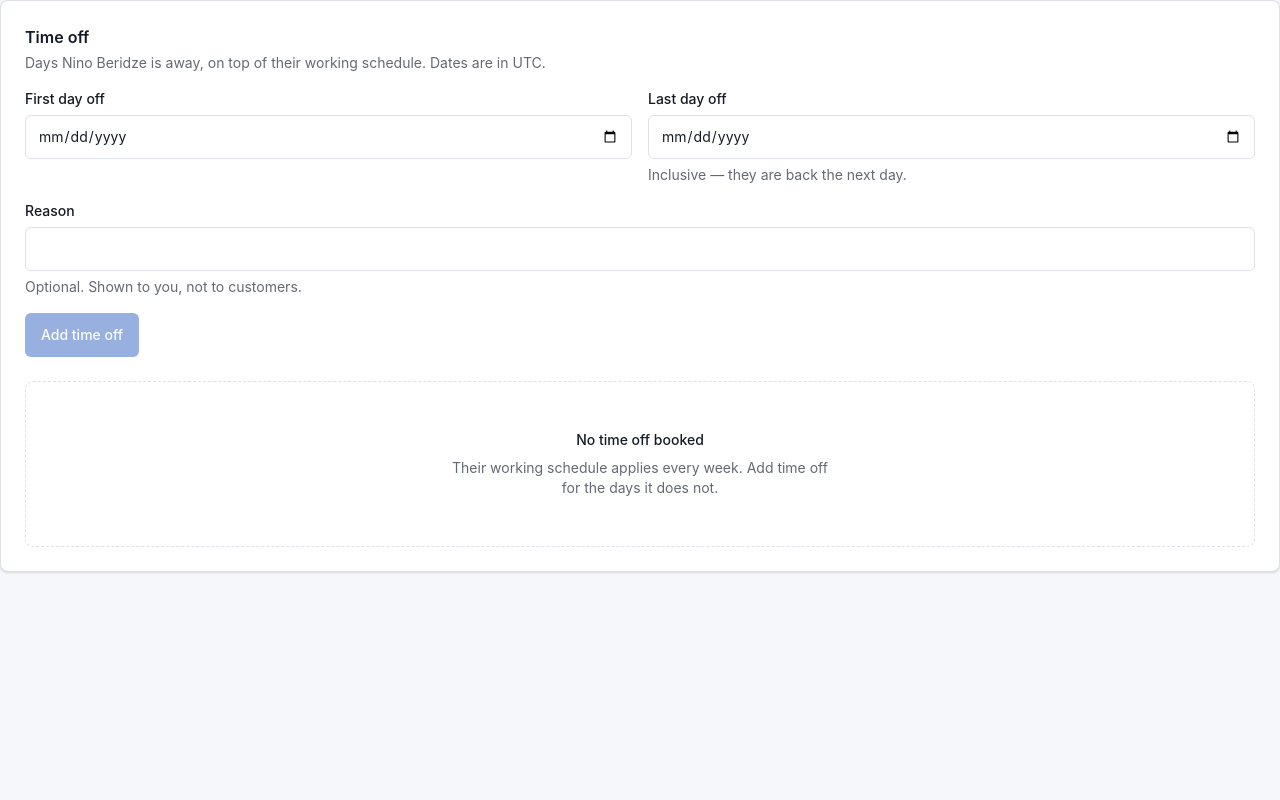
Scenario: TimeOffSection, when a write is refused › keeps the dates so the owner can adjust rather than retype them
The width and height of the screenshot is (1280, 800).
Type "2026-10-05" into the date field labelled "First day off" at (328, 137), box [25,115,632,159]
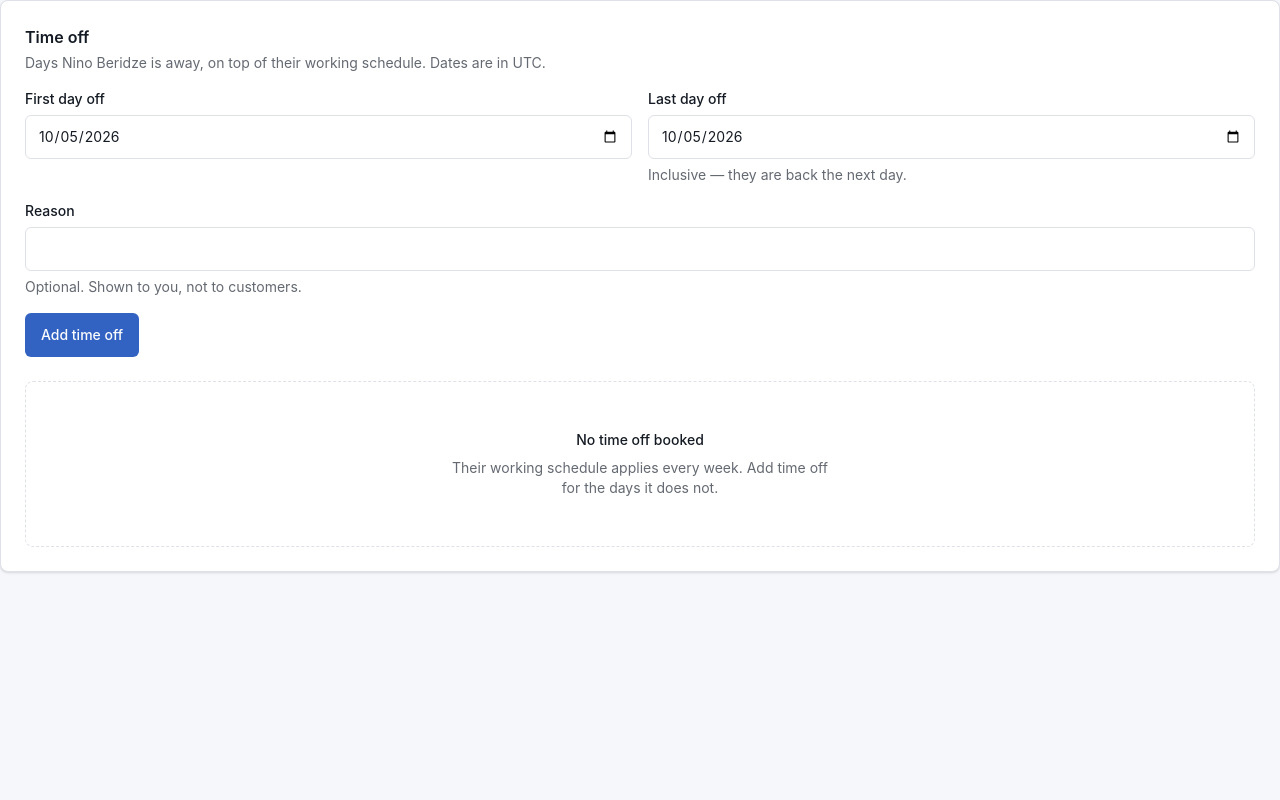
Type "2026-10-09" into the date field labelled "Last day off" at (952, 137), box [648,115,1255,159]
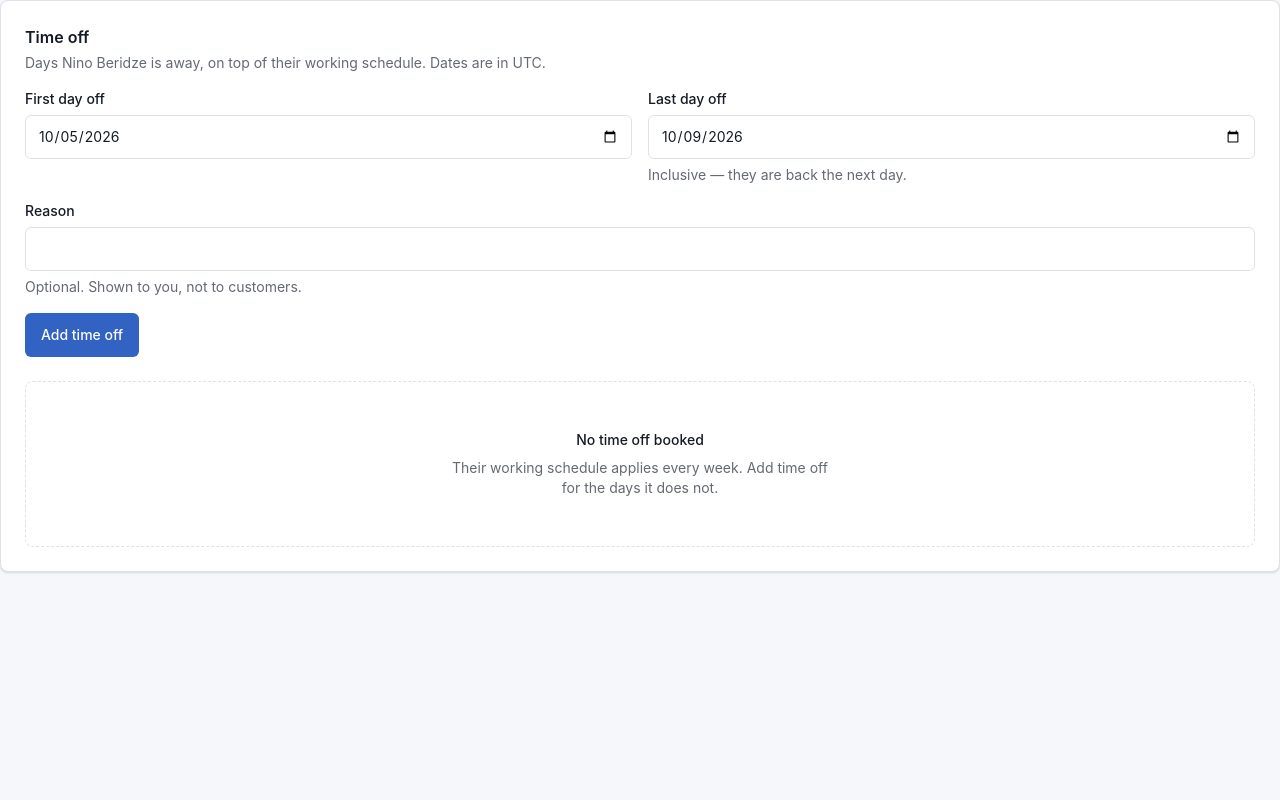
Click the button "Add time off" at (82, 335), box [25,313,139,357]
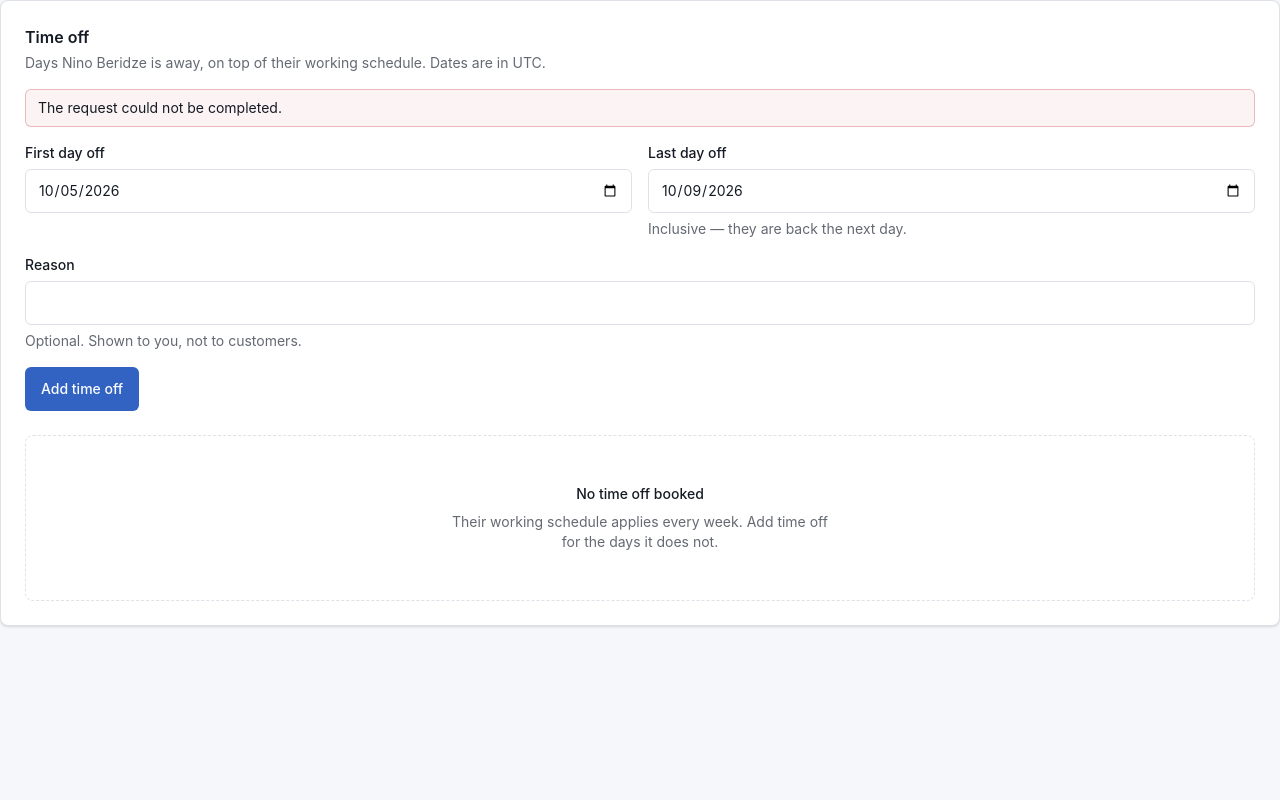
Result: the message "The request could not be completed." is shown at [25,89,1255,127]
